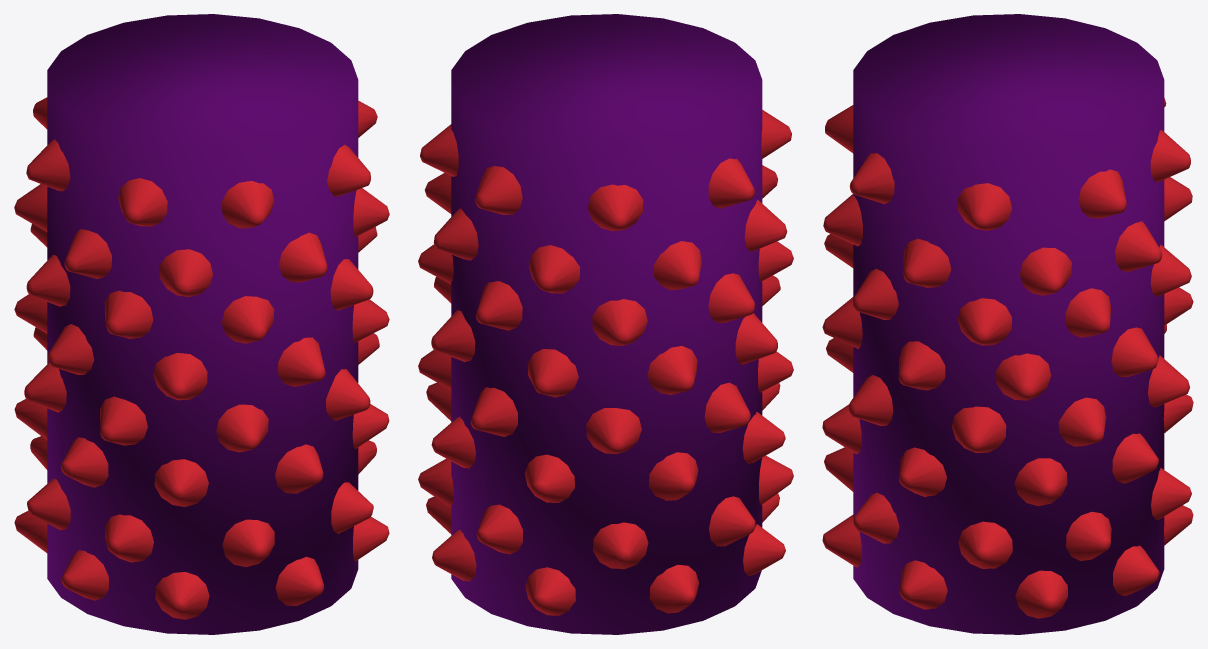
File: tru gai.fbx
3 renders of one model, left to right at view 1: azimuth 30°, elevation 25°; view 2: azimuth 150°, elevation 25°; view 3: azimuth 270°, elevation 25°, orthographic.
Parts seen in each view (by area): view 1: spikeBallSingle.001; view 2: spikeBallSingle.001; view 3: spikeBallSingle.001.
Part boxes in pixels (left/top/right/bottom): spikeBallSingle.001: left=14, top=14, right=389, bottom=634; spikeBallSingle.001: left=418, top=14, right=793, bottom=634; spikeBallSingle.001: left=822, top=14, right=1193, bottom=634.
Size of the model in its own units: 190 by 274 by 188.
